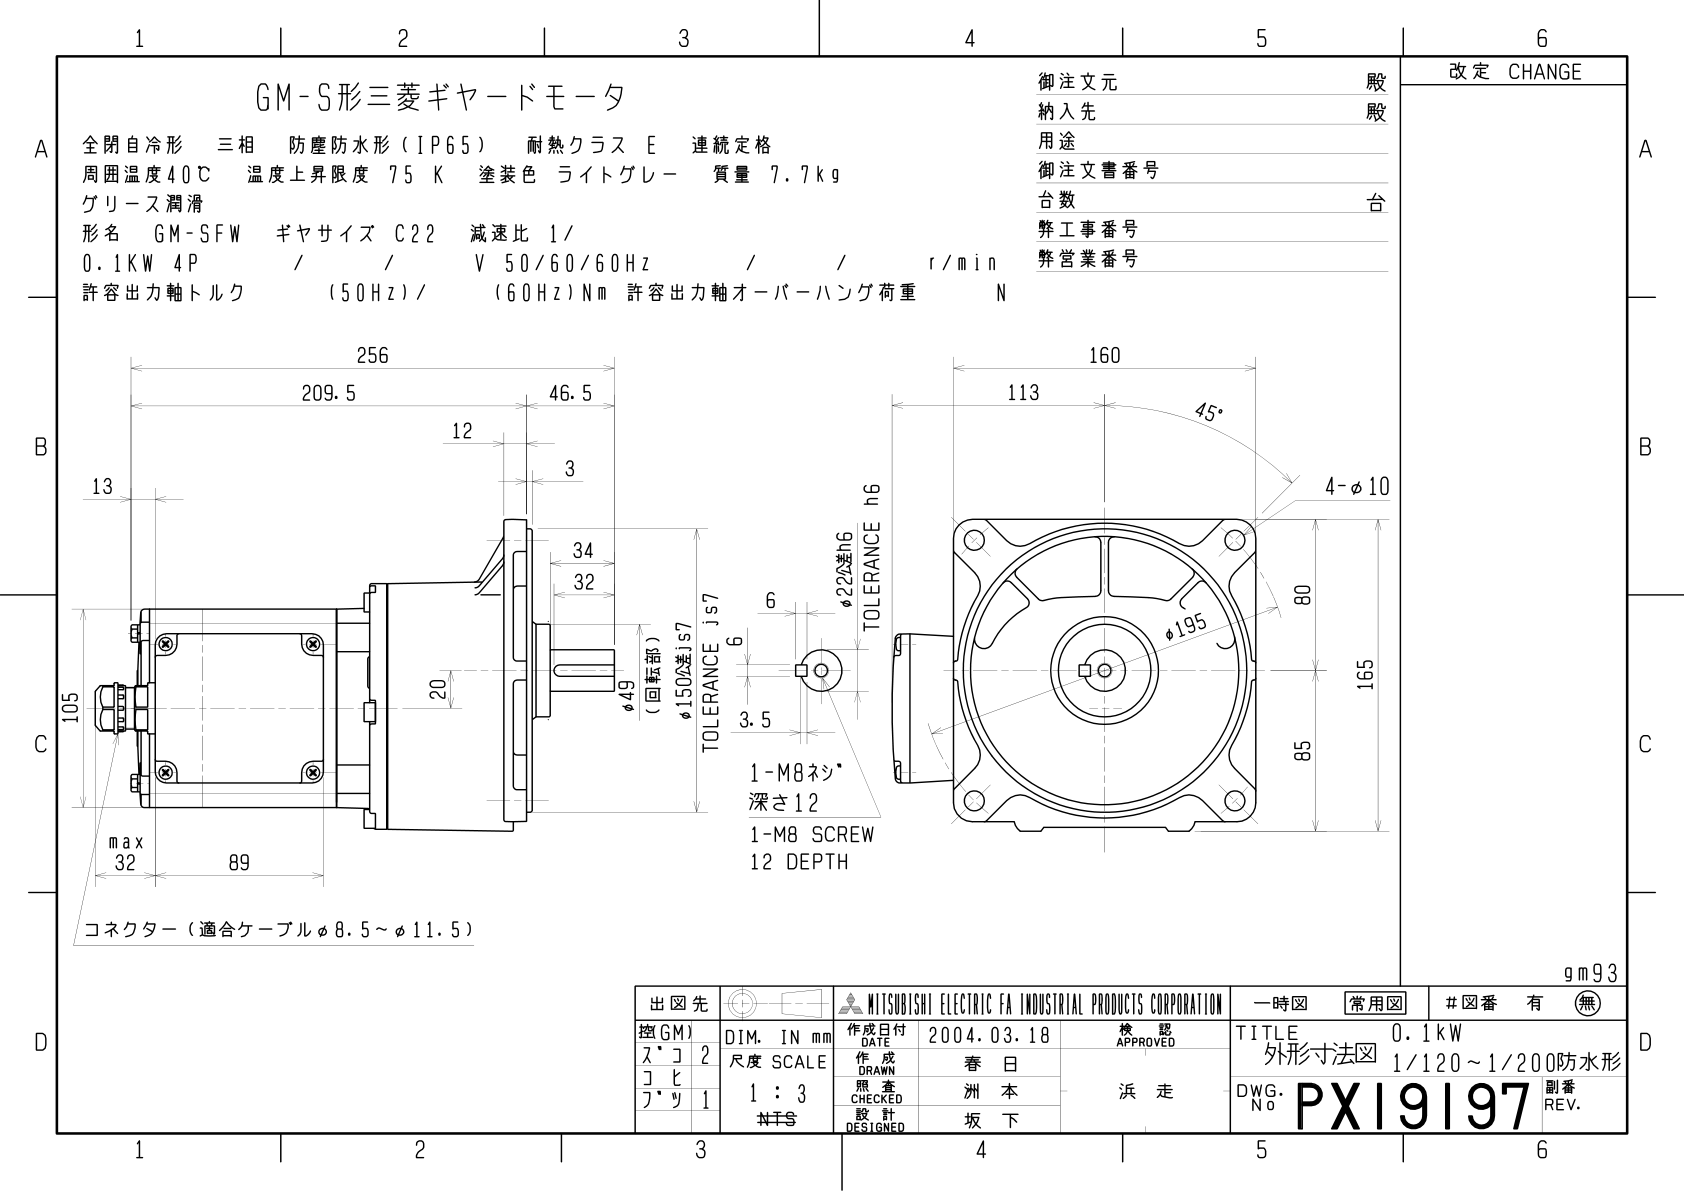GM_S_IP65＿三相_フランジ: (61, 320, 1395, 983)
